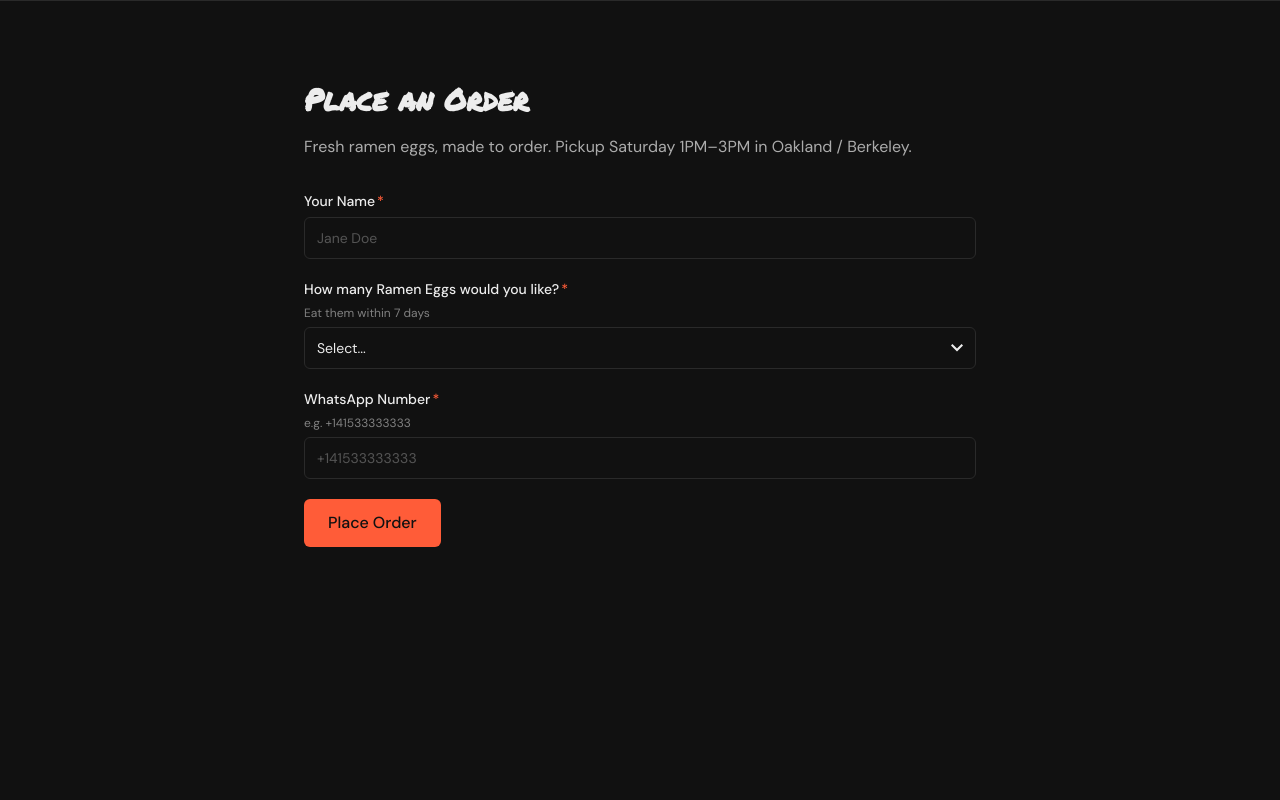
Test case: OrderForm — submission › shows error message when submission fails
The image size is (1280, 800).
Type "Test User" into the field with placeholder "Jane Doe".
click(640, 238); type("Test User")  # box 304,216 -> 976,258
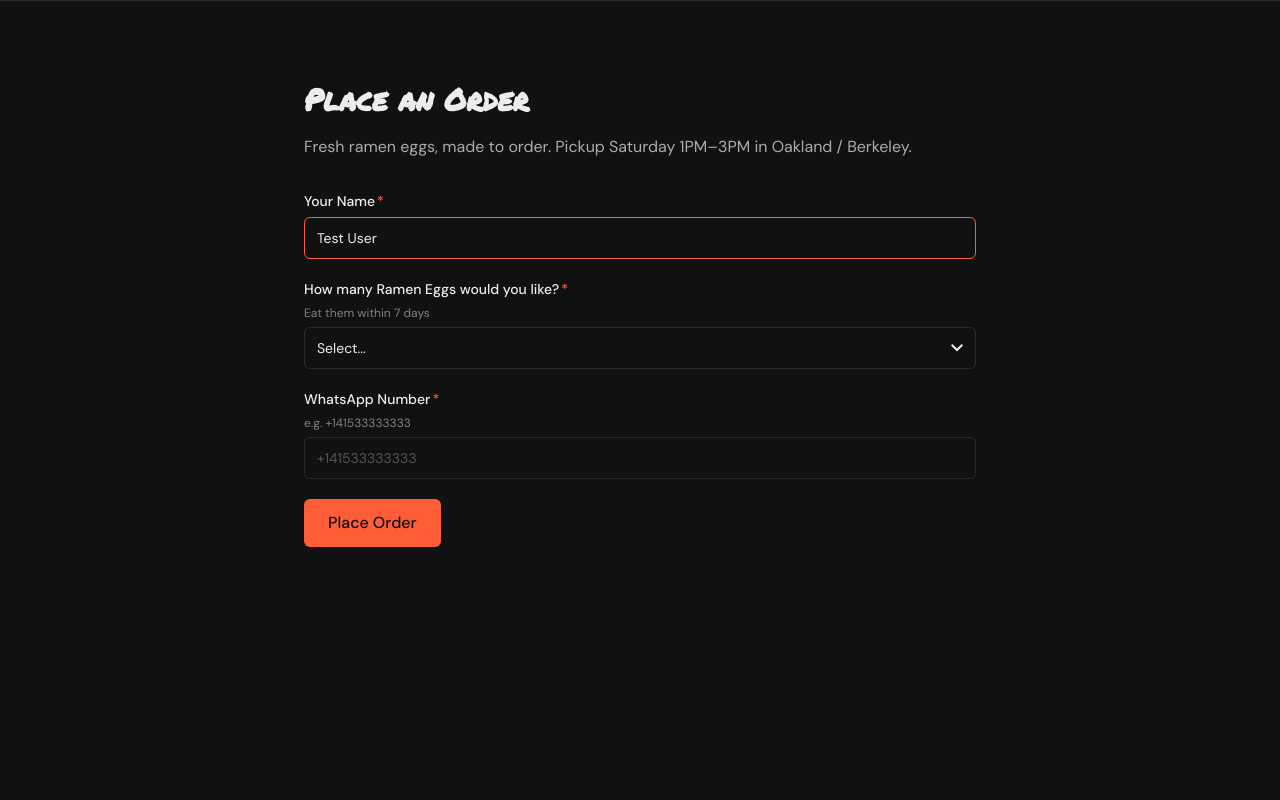
Select "10" in the dropdown at (640, 348), box 304,326 -> 976,368
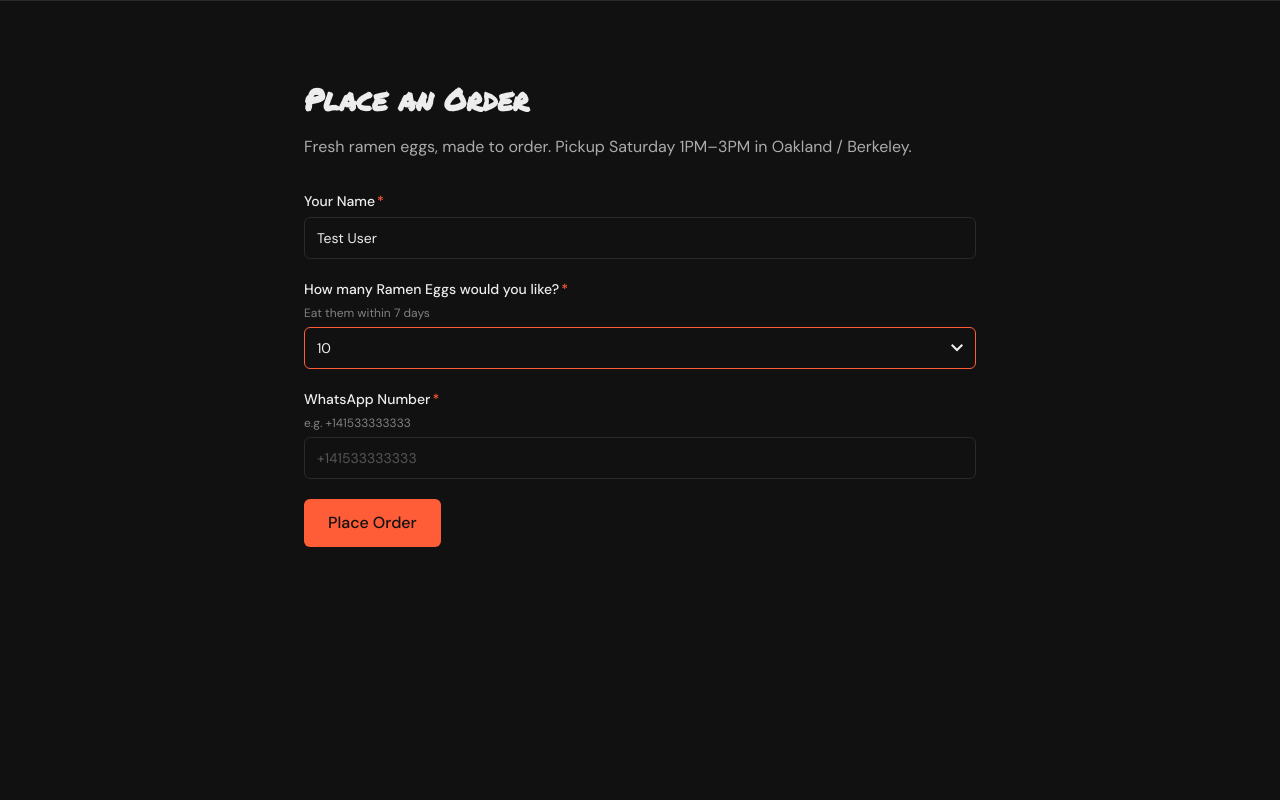
Type "+14155551234" into the field with placeholder "+141533333333".
click(640, 458); type("+14155551234")  # box 304,436 -> 976,478
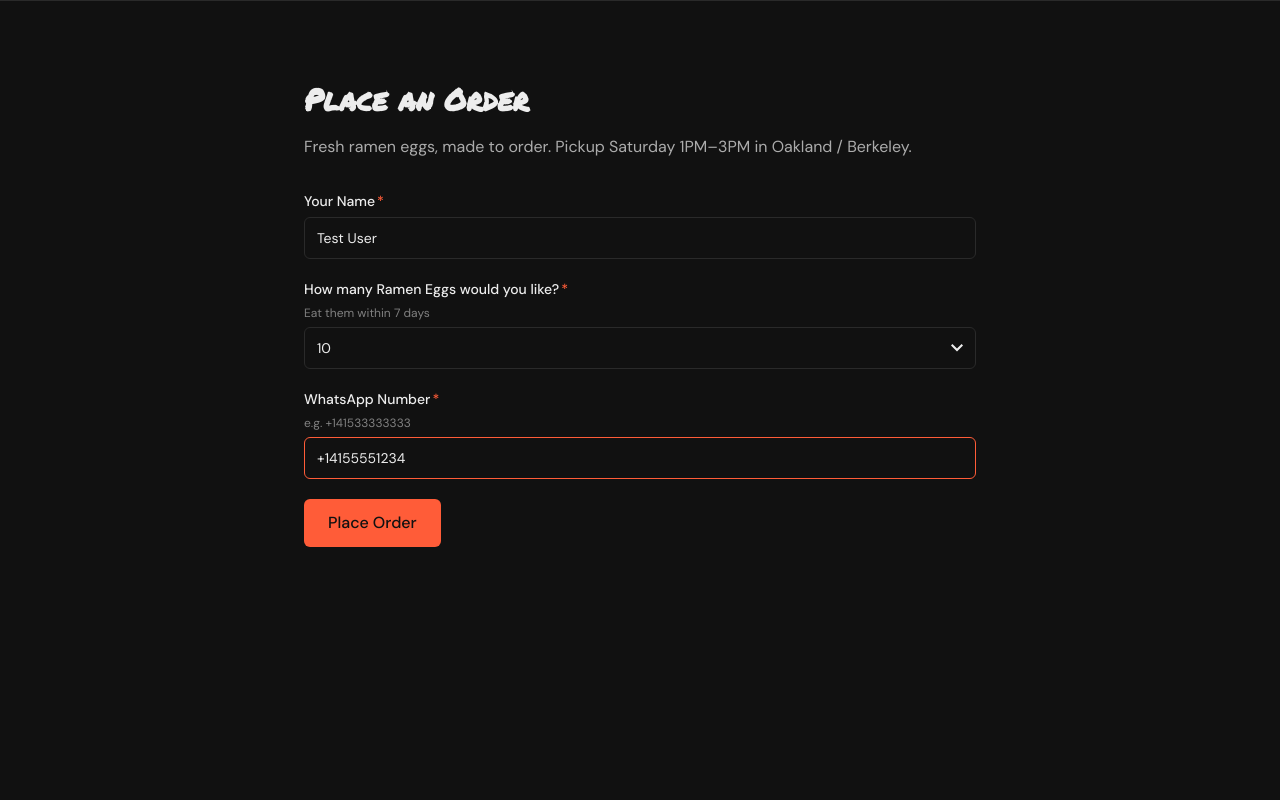
Click the button "Place Order".
click(372, 522)  # box 304,498 -> 441,546
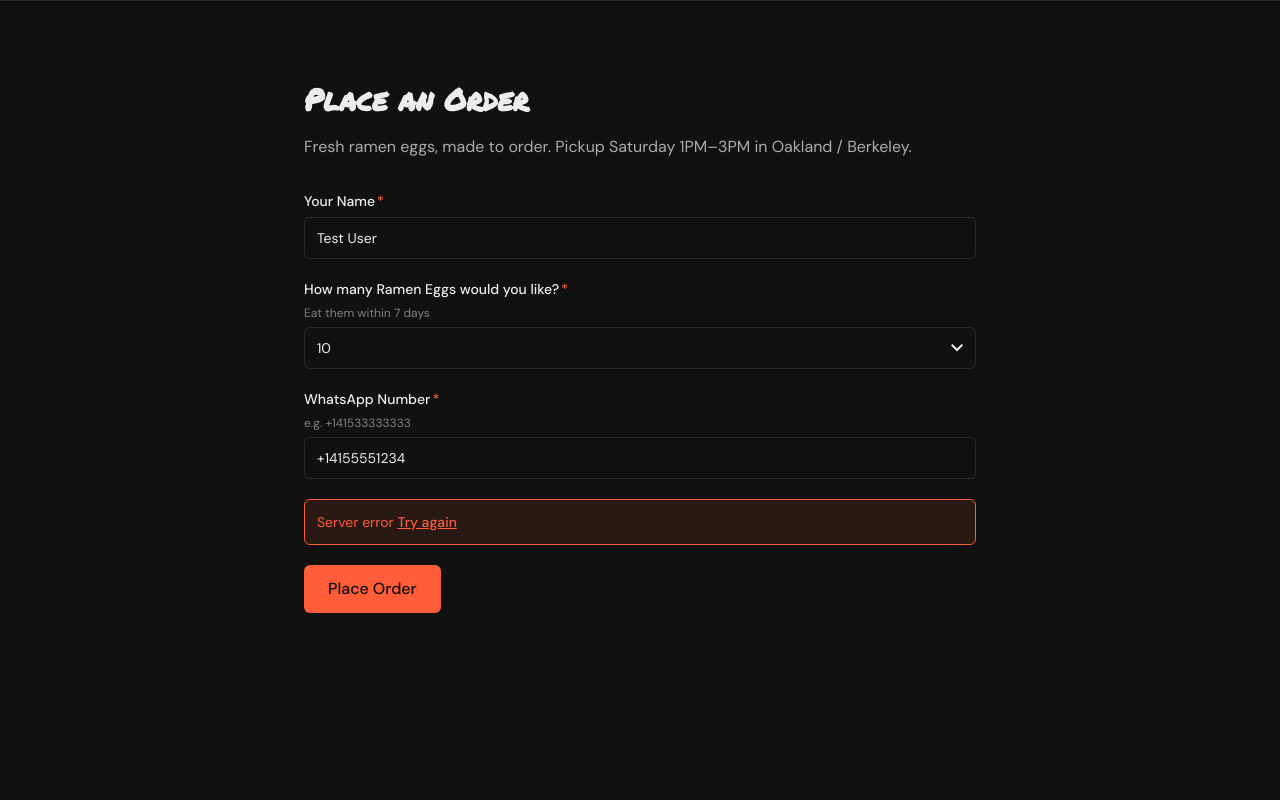
expect the message shows "Server error": met, box 317,512 -> 394,530
expect the button "Try again" is shown: met, box 397,512 -> 457,532
